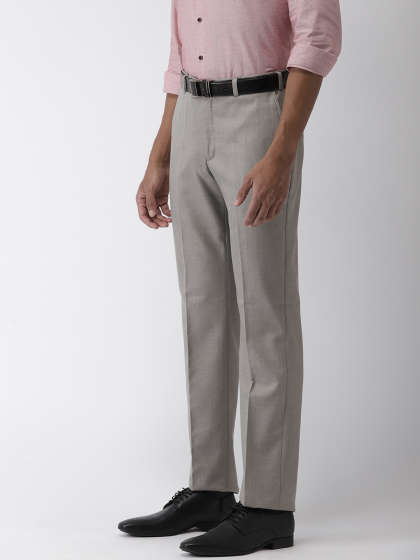F_belt: (173, 72, 296, 97)
F_dress pants: (165, 79, 305, 514)
